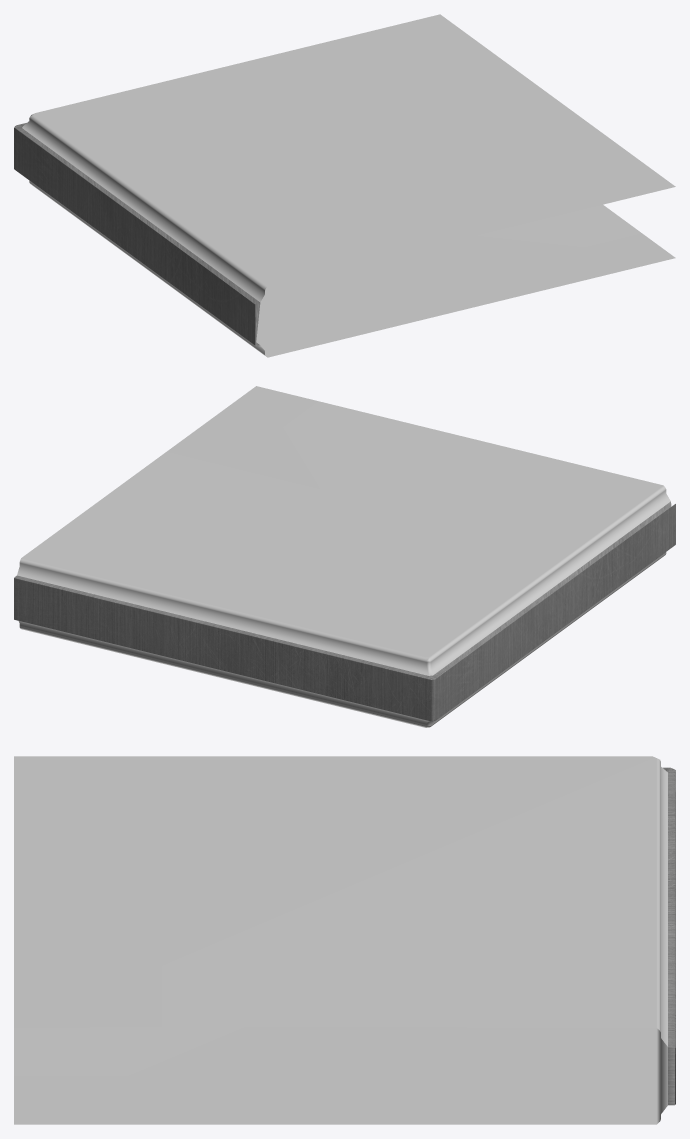
Rendered from SM_Roof_OuterCorner.fbx.
The picture shows the model from 3 angles, top to bottom: view 1: azimuth 30°, elevation 25°; view 2: azimuth 150°, elevation 25°; view 3: azimuth 270°, elevation 25°; orthographic projection. The views are drawn at different scales.
Visible parts, largest first — view 1: SM_Roof_OuterCorner_LOD0; view 2: SM_Roof_OuterCorner_LOD0; view 3: SM_Roof_OuterCorner_LOD0.
Part boxes in pixels (x1=…): SM_Roof_OuterCorner_LOD0: x1=14, y1=14, x2=675, y2=357; SM_Roof_OuterCorner_LOD0: x1=14, y1=386, x2=675, y2=727; SM_Roof_OuterCorner_LOD0: x1=14, y1=756, x2=675, y2=1124.
Size of the model in its own units: 155 by 155 by 25.
